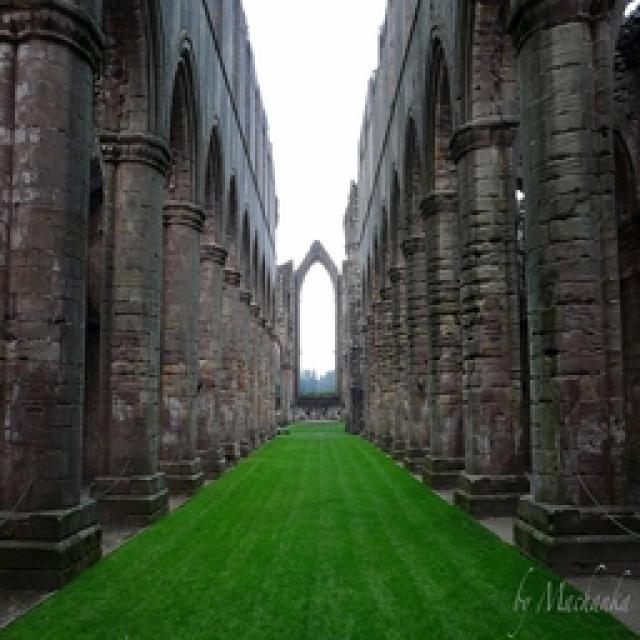Abbey: (2, 4, 640, 519)
